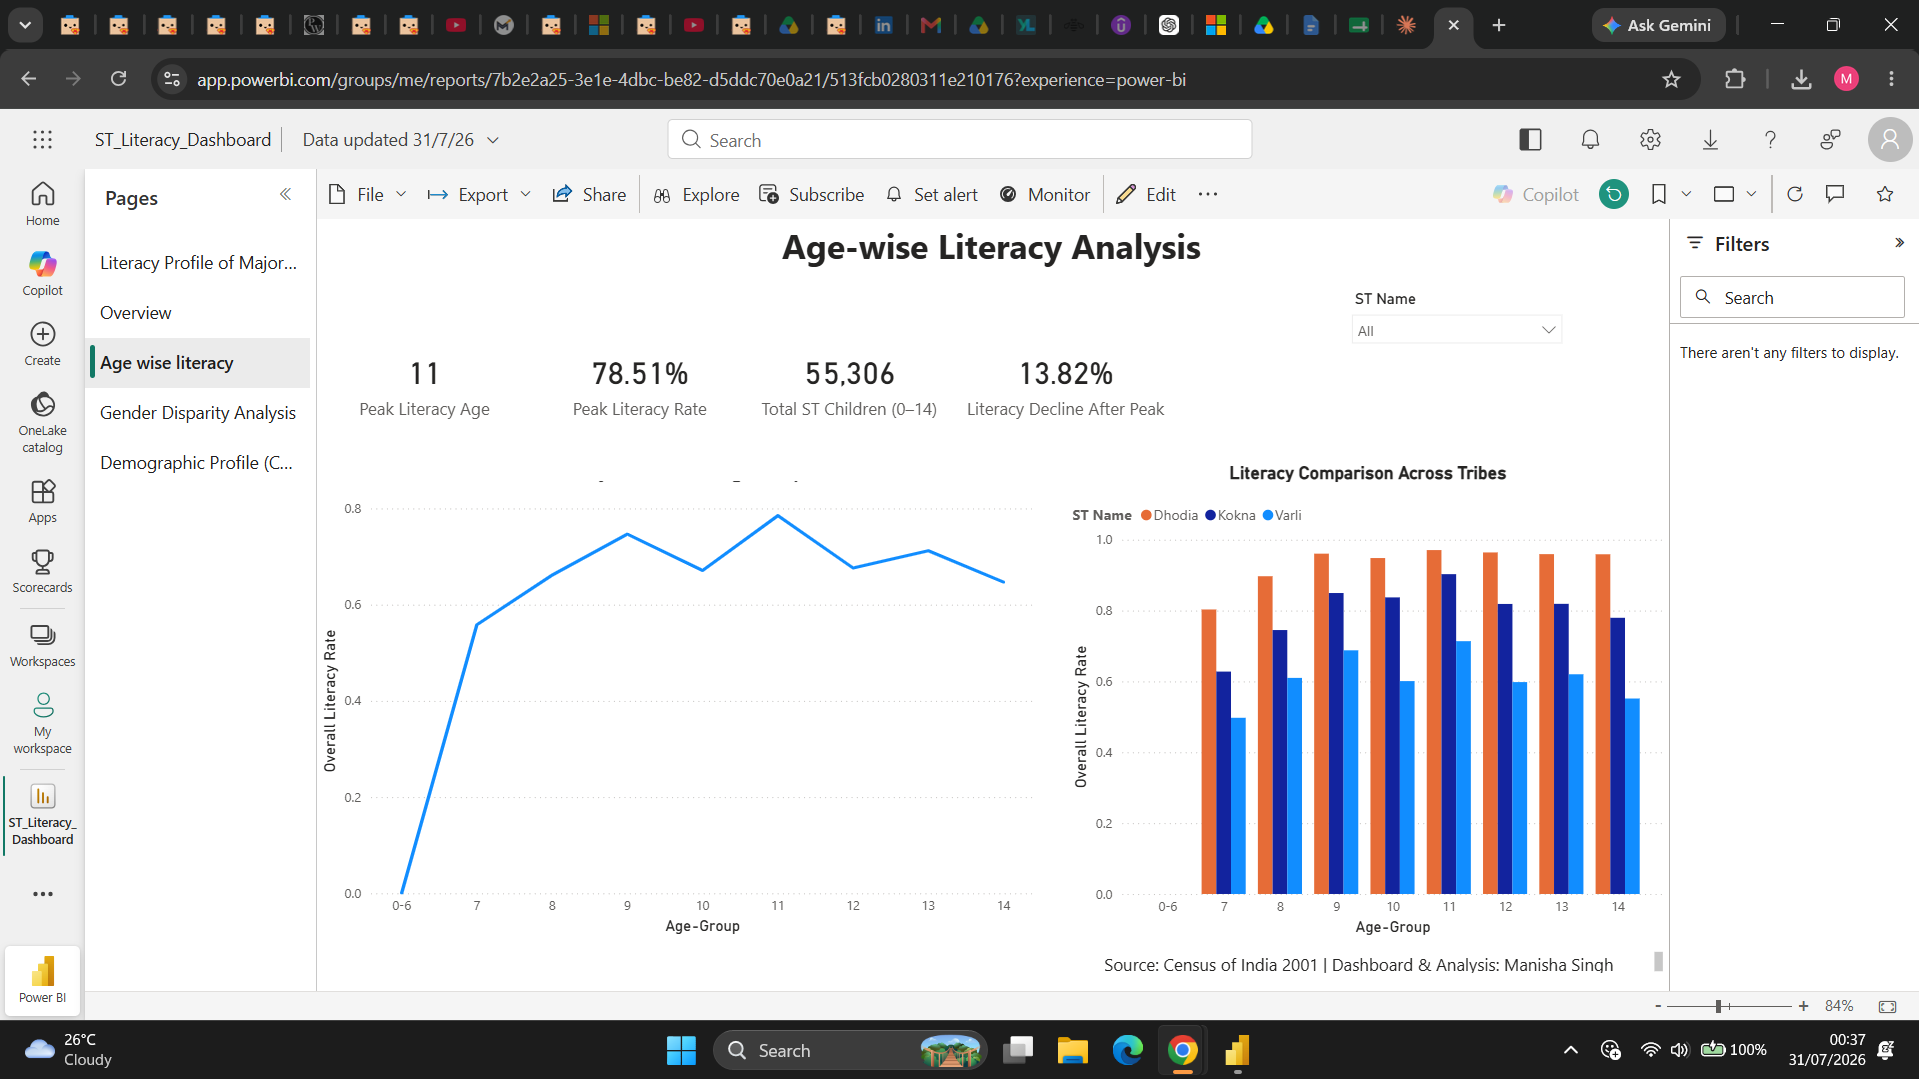

The page's visual inventory and layout, read from the dashboard file:
{"tool":"powerbi","page":{"name":"Age wise literacy","canvas":[1280,720],"ordinal":2},"visuals":[{"type":"lineChart","title":"Literacy Trend Across Age Groups","fields":{"Category":["RAW DATA.Age-Group"],"Y":["RAW DATA.Overall Literacy %"]},"box":[0,230.5,684.8,452.4],"z":0},{"type":"card","fields":{"Values":["RAW DATA.Peak Literacy Age"]},"box":[0,63.1,205.8,186.6],"z":1000},{"type":"card","fields":{"Values":["RAW DATA.Peak Literacy %"]},"box":[205.8,63.1,201.7,186.6],"z":2000},{"type":"card","fields":{"Values":["RAW DATA.Literacy Decline %"]},"box":[603.8,63.1,212.7,186.6],"z":3000},{"type":"card","fields":{"Values":["RAW DATA.Total Children"]},"box":[407.5,63.1,196.2,186.6],"z":4000},{"type":"textbox","box":[395.2,0,488.5,63.1],"z":5000},{"type":"slicer","fields":{"Values":["RAW DATA.ST Name"]},"box":[970.2,63.1,219.6,112.5],"z":6000},{"type":"clusteredColumnChart","title":"Literacy Comparison Across Tribes","fields":{"Category":["RAW DATA.Age-Group"],"Y":["RAW DATA.Overall Literacy %"],"Series":["RAW DATA.ST Name"]},"box":[710.8,230.5,569.5,452.8],"z":7000},{"type":"textbox","box":[741,690.2,539.3,30.2],"z":8000}]}

Visuals, with their boxes on the page's 1280x720 design canvas (x1, y1, x2, y2). These are canvas units, not pixel positions in the 1919x1079 screenshot, which may show the page scaled, cropped or inside an application window:
"Literacy Trend Across Age Groups" lineChart: 0,230,685,683
card - RAW DATA.Peak Literacy Age: 0,63,206,250
card - RAW DATA.Peak Literacy %: 206,63,408,250
card - RAW DATA.Literacy Decline %: 604,63,816,250
card - RAW DATA.Total Children: 408,63,604,250
textbox: 395,0,884,63
slicer - RAW DATA.ST Name: 970,63,1190,176
"Literacy Comparison Across Tribes" clusteredColumnChart: 711,230,1280,683
textbox: 741,690,1280,720
